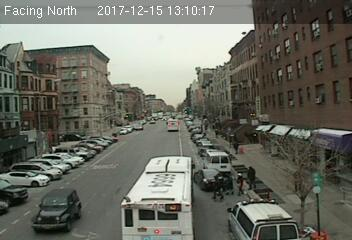bus: (120, 156, 198, 240)
car: (30, 188, 81, 231), (195, 168, 227, 191)
pedestrian: (233, 170, 248, 198), (211, 176, 224, 205), (246, 164, 257, 189)
police: (226, 198, 302, 240)
truck: (205, 152, 231, 174), (166, 119, 179, 131)
